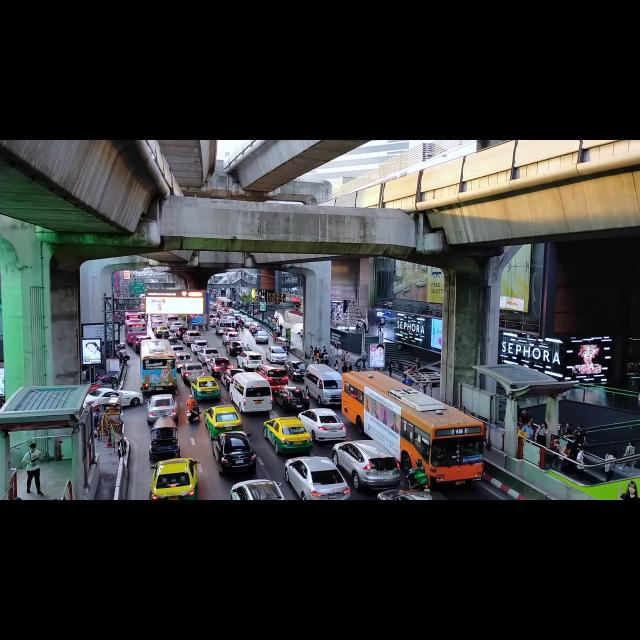bus: (342, 372, 485, 487), (140, 340, 177, 391), (124, 319, 146, 344), (216, 297, 232, 310), (124, 312, 143, 320)
car: (332, 440, 401, 489), (285, 457, 350, 499), (149, 458, 199, 499), (212, 431, 256, 474), (263, 417, 312, 453), (298, 408, 346, 440), (204, 405, 243, 438), (230, 479, 285, 499), (85, 388, 142, 406), (254, 364, 289, 390), (147, 394, 177, 423), (273, 386, 309, 410), (376, 489, 446, 499), (191, 376, 220, 400), (180, 363, 206, 384), (237, 351, 263, 370), (206, 357, 233, 375), (221, 369, 244, 390), (284, 361, 306, 381), (266, 346, 288, 363), (196, 348, 220, 363), (226, 341, 250, 355), (133, 335, 151, 353), (175, 352, 192, 370), (182, 331, 201, 345), (222, 320, 238, 336), (223, 331, 241, 345), (190, 340, 208, 353), (153, 325, 168, 338), (254, 330, 269, 343), (173, 326, 188, 338), (169, 321, 182, 332), (249, 322, 259, 334), (167, 336, 179, 345), (171, 345, 185, 352), (152, 320, 163, 328), (240, 314, 250, 322)
